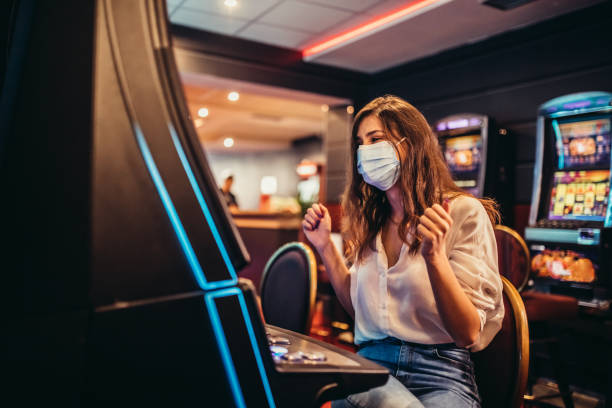with mask: (332, 105, 437, 212)
